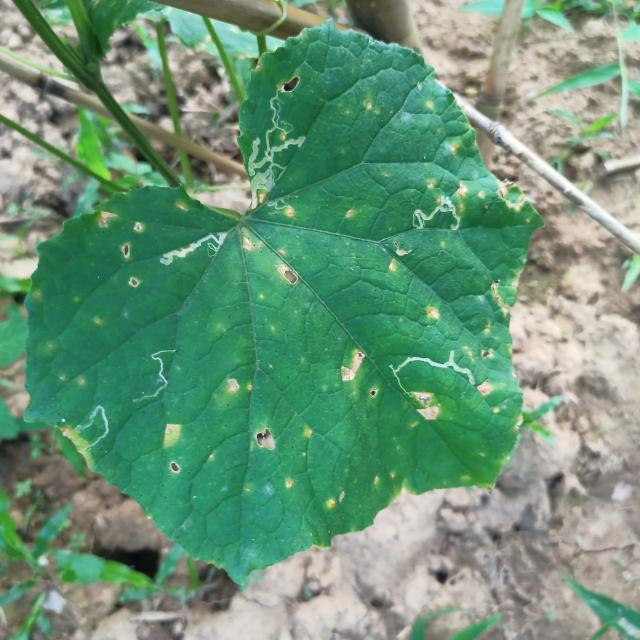disease_cucumber: (463, 279, 516, 362), (97, 209, 144, 295), (456, 181, 534, 215), (340, 348, 378, 406), (479, 372, 521, 422), (161, 421, 188, 478), (248, 425, 285, 461), (274, 246, 304, 290), (411, 387, 444, 426), (238, 228, 267, 254), (222, 374, 256, 396), (386, 242, 410, 272), (358, 96, 384, 118), (324, 491, 346, 508), (425, 305, 443, 319), (447, 139, 461, 153), (177, 202, 190, 214), (258, 192, 269, 205), (284, 208, 298, 218), (344, 208, 354, 221)
